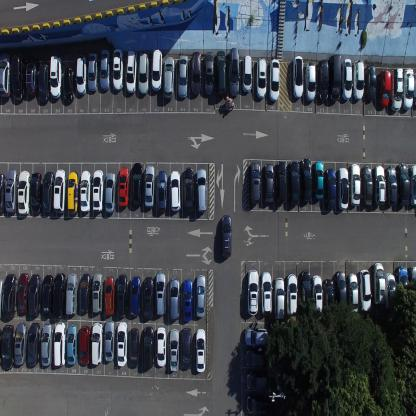car: (334, 271, 348, 318), (2, 273, 16, 320), (52, 169, 66, 215), (26, 322, 40, 368), (329, 53, 342, 102), (13, 322, 27, 367), (27, 272, 41, 317), (12, 52, 24, 102), (52, 272, 65, 318), (17, 170, 30, 216), (373, 262, 386, 308), (244, 372, 271, 394), (5, 168, 18, 213), (396, 266, 410, 307), (16, 272, 29, 316), (49, 56, 62, 100), (125, 50, 138, 94), (162, 56, 175, 100), (359, 268, 372, 312), (324, 166, 337, 210), (90, 323, 103, 366), (25, 54, 38, 97), (300, 158, 312, 204), (183, 166, 195, 212), (142, 325, 154, 371), (115, 322, 127, 368), (143, 164, 155, 210), (392, 66, 404, 112), (247, 269, 259, 315), (2, 324, 14, 370), (229, 47, 240, 97), (244, 349, 270, 370), (276, 160, 288, 205), (288, 162, 300, 207), (168, 277, 180, 322), (52, 322, 64, 367), (40, 322, 52, 367), (91, 168, 103, 213), (66, 171, 78, 216), (402, 68, 415, 109), (194, 274, 206, 318), (142, 276, 154, 320), (129, 275, 141, 319), (65, 272, 77, 316), (40, 273, 52, 317), (104, 171, 116, 215), (316, 58, 328, 102), (337, 166, 349, 210), (398, 161, 410, 205), (300, 270, 312, 314), (274, 276, 286, 320), (286, 272, 298, 316), (292, 55, 304, 99), (220, 215, 232, 259), (244, 327, 269, 348), (379, 68, 392, 108), (256, 57, 268, 100), (180, 328, 192, 371), (103, 275, 115, 318), (117, 166, 129, 209), (30, 172, 42, 215), (75, 54, 87, 97), (374, 163, 386, 206), (323, 278, 335, 321), (196, 167, 207, 213), (0, 54, 11, 100), (156, 170, 168, 212), (128, 328, 140, 370), (79, 170, 91, 212), (347, 274, 358, 319), (152, 47, 163, 92), (195, 329, 206, 374), (155, 272, 166, 317), (116, 274, 127, 319), (42, 170, 53, 215), (177, 54, 188, 99), (261, 271, 272, 316), (78, 325, 90, 366), (79, 273, 91, 314), (353, 58, 365, 99), (385, 272, 397, 313), (250, 162, 261, 206), (269, 59, 280, 103), (204, 52, 215, 96), (191, 51, 202, 95), (168, 328, 179, 372), (138, 52, 149, 96), (103, 320, 114, 364), (112, 48, 123, 92), (350, 162, 361, 206), (38, 64, 50, 104), (182, 279, 193, 322), (99, 48, 110, 91), (216, 51, 226, 98), (132, 162, 142, 209), (246, 395, 272, 413), (170, 170, 181, 212), (155, 326, 166, 368), (387, 165, 398, 207), (313, 161, 324, 202), (305, 60, 316, 101), (312, 274, 323, 315), (63, 66, 75, 103), (264, 162, 274, 206), (92, 272, 102, 316), (362, 164, 372, 208), (342, 57, 352, 100), (66, 324, 76, 366), (242, 56, 253, 94), (87, 52, 97, 93), (366, 63, 376, 101), (408, 265, 416, 306), (410, 164, 416, 207), (0, 172, 5, 215), (0, 278, 3, 321), (0, 327, 2, 367)
